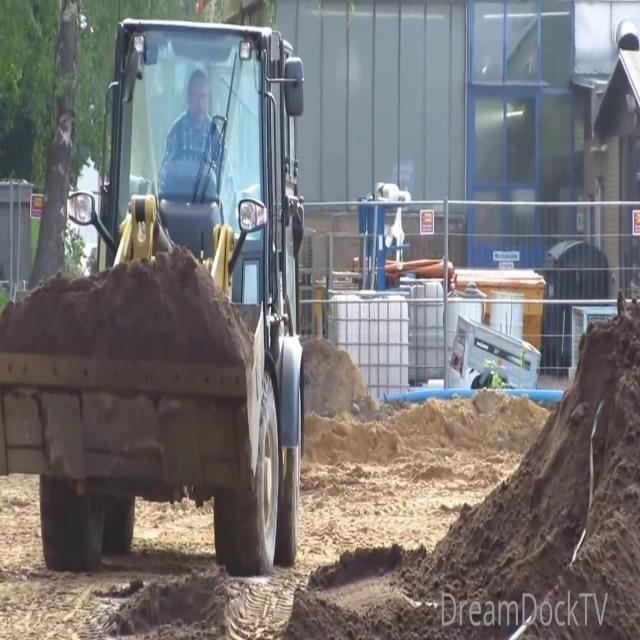Loader: (0, 14, 304, 575)
